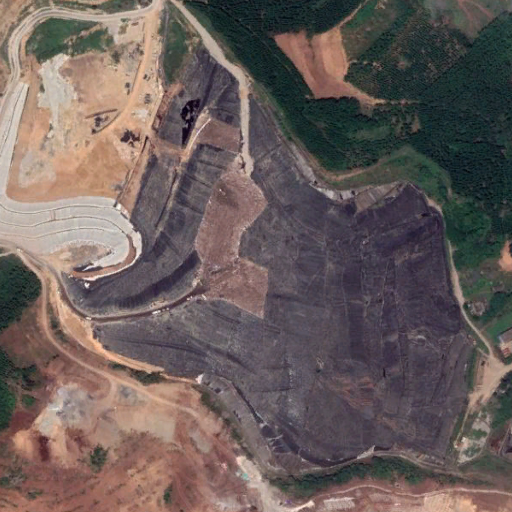lf: (59, 44, 473, 472)
